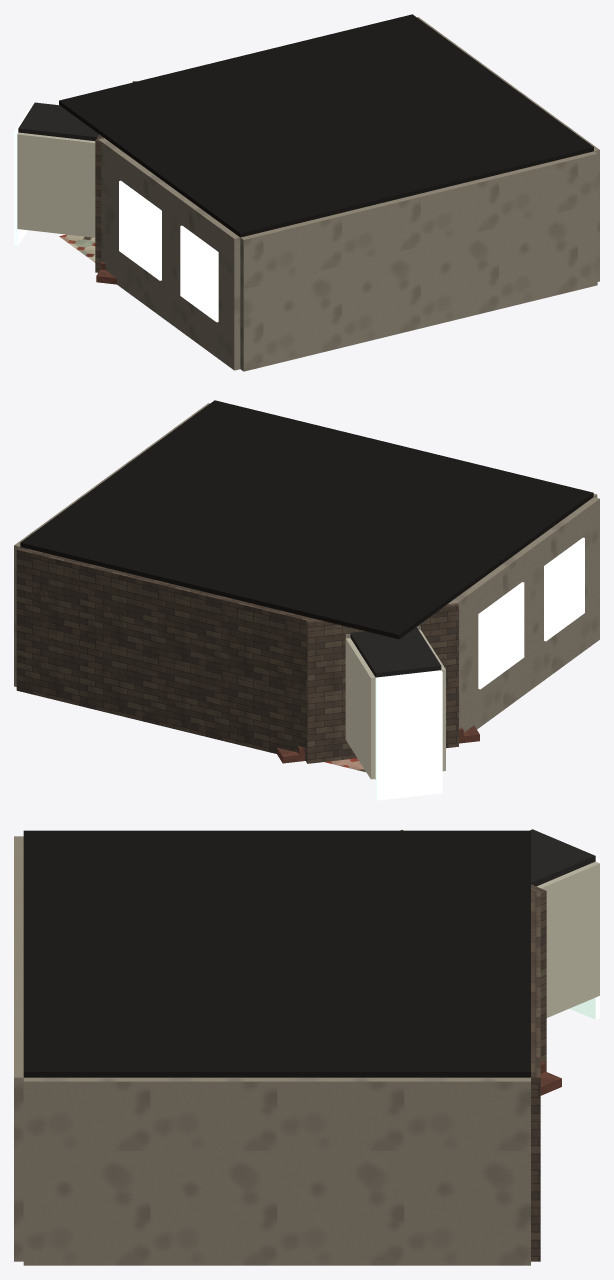
File: pawn-shop.glb
The picture shows the model from 3 angles, top to bottom: view 1: azimuth 30°, elevation 25°; view 2: azimuth 150°, elevation 25°; view 3: azimuth 270°, elevation 25°; orthographic projection. The views are drawn at different scales.
Visible parts, largest first — view 1: Ceiling, Wall front, Hallway wall, Wall left low, Wall left high, Window daylight, Window daylight.001, Hallway top, Wall left, Wall left.001, Wall left.002, Wall corner (+3 smaller); view 2: Ceiling, Wall back, Hallway end, Wall corner.001, Wall left low, Wall left high, Window daylight, Hallway wall.001, Window daylight.001, Hallway top, Wall corner, Wall left.001 (+5 smaller); view 3: Ceiling, Wall right, Hallway wall.001, Wall front, Wall back, Hallway top, Wall corner.001.
Part boxes in pixels (bbox=[...]): Ceiling: bbox=[59, 14, 593, 237]; Wall front: bbox=[240, 151, 597, 371]; Hallway wall: bbox=[17, 132, 95, 237]; Wall left low: bbox=[101, 236, 240, 370]; Wall left high: bbox=[99, 138, 240, 263]; Window daylight: bbox=[119, 180, 161, 280]; Window daylight.001: bbox=[180, 225, 218, 322]; Hallway top: bbox=[18, 102, 98, 140]; Wall left: bbox=[218, 252, 240, 333]; Wall left.001: bbox=[162, 211, 181, 293]; Wall left.002: bbox=[101, 166, 120, 248]; Wall corner: bbox=[95, 134, 103, 272]; Ceiling: bbox=[20, 400, 593, 639]; Wall back: bbox=[16, 547, 314, 760]; Hallway end: bbox=[375, 670, 442, 800]; Wall corner.001: bbox=[305, 619, 350, 763]; Wall left low: bbox=[459, 600, 599, 732]; Wall left high: bbox=[448, 497, 599, 627]; Window daylight: bbox=[478, 582, 524, 689]; Hallway wall.001: bbox=[345, 638, 375, 779]; Window daylight.001: bbox=[544, 537, 584, 641]; Hallway top: bbox=[350, 627, 441, 677]; Wall corner: bbox=[417, 603, 458, 748]; Wall left.001: bbox=[522, 566, 543, 654]; Ceiling: bbox=[23, 830, 530, 1077]; Wall right: bbox=[23, 1077, 530, 1265]; Hallway wall.001: bbox=[537, 861, 599, 1017]; Wall front: bbox=[14, 836, 23, 1261]; Wall back: bbox=[531, 890, 540, 1261]; Hallway top: bbox=[530, 829, 595, 886]; Wall corner.001: bbox=[531, 884, 546, 1071].
Bounding box in the file's own units: 10.24 × 3.3 × 9.24.
Materials: 30 (4 with a texture image).
